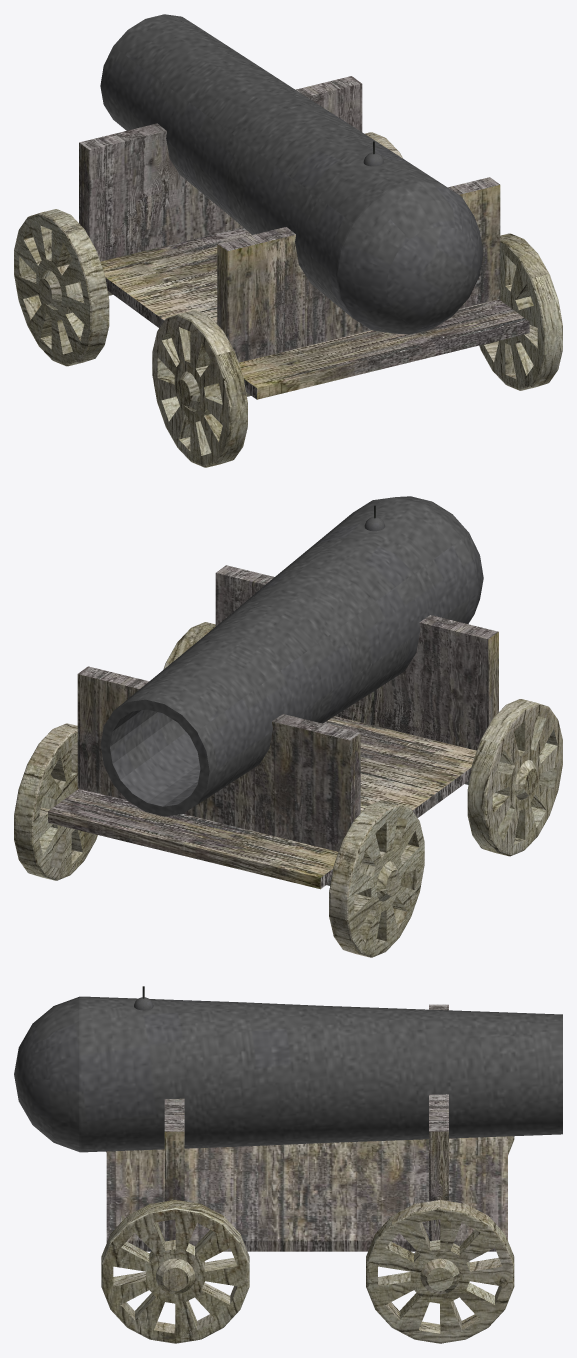
File: Cannon.FBX
3 views of the same model, one above another, from view 1: azimuth 30°, elevation 25°; view 2: azimuth 150°, elevation 25°; view 3: azimuth 270°, elevation 25° (orthographic). The views are drawn at different scales.
Visible parts, largest first — view 1: Cannon, Cannon Cart, Cannon Cart Upright001, Cannon Cart Upright, Object002, Cannon Wheel001, Cannon Wheel; view 2: Cannon, Cannon Cart, Cannon Cart Upright, Cannon Cart Upright001, Cannon Wheel001, Object002, Object001, Cannon Wheel; view 3: Cannon, Cannon Cart, Cannon Wheel, Object001, Cannon Cart Upright, Cannon Cart Upright001.
Boxes of the visible parts, bbox=[...] form: Cannon: bbox=[100, 14, 483, 334]; Cannon Cart: bbox=[100, 227, 529, 399]; Cannon Cart Upright001: bbox=[217, 177, 500, 362]; Cannon Cart Upright: bbox=[79, 76, 362, 261]; Object002: bbox=[152, 310, 247, 467]; Cannon Wheel001: bbox=[14, 209, 109, 366]; Cannon Wheel: bbox=[479, 233, 562, 390]; Cannon: bbox=[100, 496, 483, 816]; Cannon Cart: bbox=[48, 716, 476, 889]; Cannon Cart Upright: bbox=[77, 666, 360, 851]; Cannon Cart Upright001: bbox=[215, 565, 498, 750]; Cannon Wheel001: bbox=[329, 800, 424, 957]; Object002: bbox=[467, 699, 562, 856]; Object001: bbox=[14, 723, 97, 880]; Cannon Wheel: bbox=[163, 622, 215, 669]; Cannon: bbox=[14, 996, 562, 1152]; Cannon Cart: bbox=[106, 1136, 507, 1251]; Cannon Wheel: bbox=[101, 1200, 249, 1343]; Object001: bbox=[366, 1200, 514, 1343]; Cannon Cart Upright: bbox=[429, 1004, 448, 1240]; Cannon Cart Upright001: bbox=[164, 1098, 184, 1240].
Size of the model in its own units: 75.31 by 60.53 by 108.
Materials: 7 (7 with a texture image).
